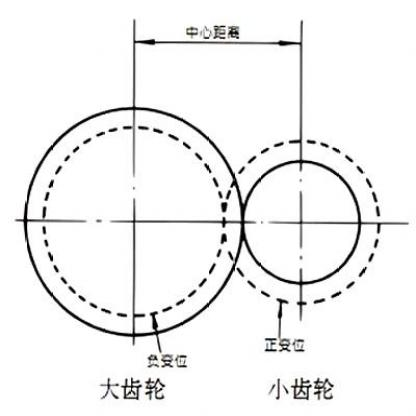FOD: (21, 104, 247, 341), (217, 133, 384, 312)
